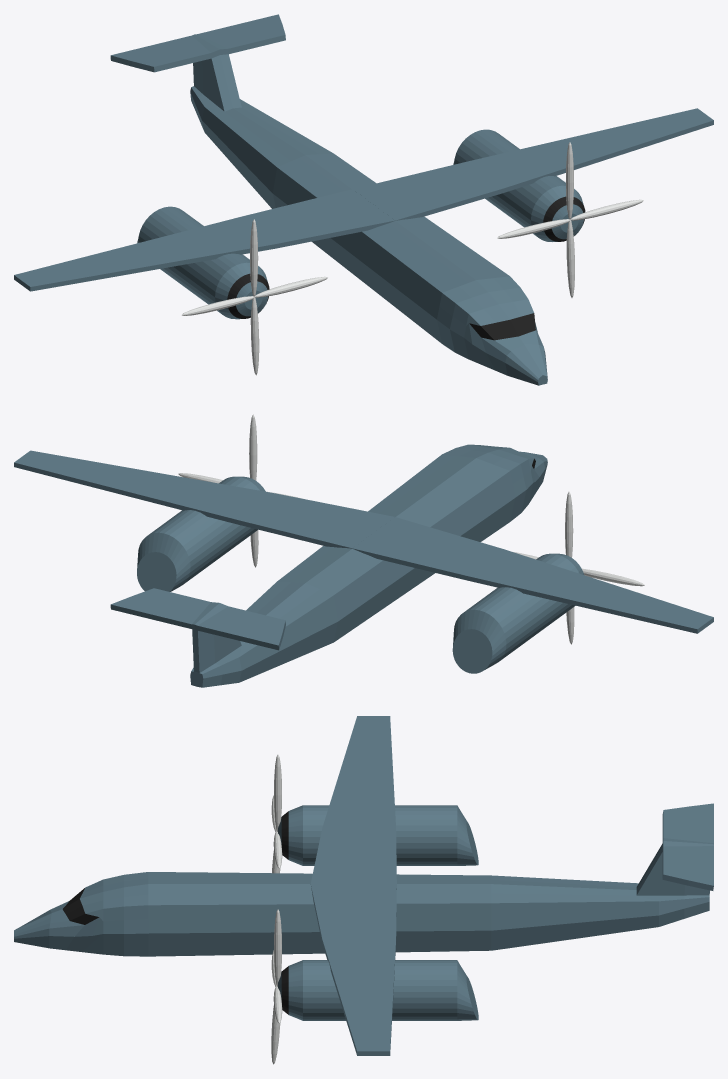
File: PlaneModelDash.fbx
The picture shows the model from 3 angles, top to bottom: view 1: azimuth 30°, elevation 25°; view 2: azimuth 150°, elevation 25°; view 3: azimuth 270°, elevation 25°; orthographic projection.
Visible parts, largest first — view 1: Body, RightWing, LeftWing, RightPropeller, LeftPropeller; view 2: Body, RightWing, LeftWing, RightPropeller, LeftPropeller; view 3: Body, LeftWing, RightWing, LeftPropeller, RightPropeller.
Boxes of the visible parts, x1,y1,x2,y2 form: Body: [110, 14, 547, 385]; RightWing: [14, 189, 395, 291]; LeftWing: [353, 108, 713, 220]; RightPropeller: [137, 206, 327, 375]; LeftPropeller: [453, 129, 643, 297]; Body: [110, 444, 547, 687]; RightWing: [352, 517, 713, 633]; LeftWing: [14, 450, 394, 548]; RightPropeller: [452, 491, 644, 673]; LeftPropeller: [137, 414, 303, 591]; Body: [14, 803, 713, 956]; LeftWing: [310, 883, 396, 1055]; RightWing: [311, 716, 396, 883]; LeftPropeller: [271, 909, 478, 1064]; RightPropeller: [271, 754, 478, 873].
Size of the model in its own units: 4139 by 898 by 3653.
